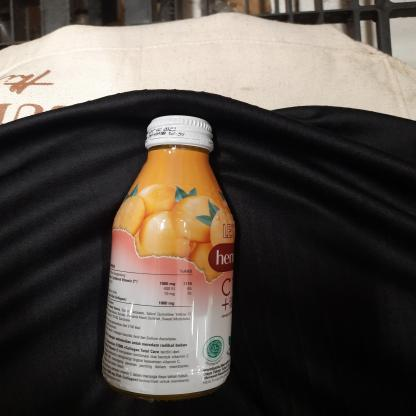glass: (93, 107, 241, 399)
